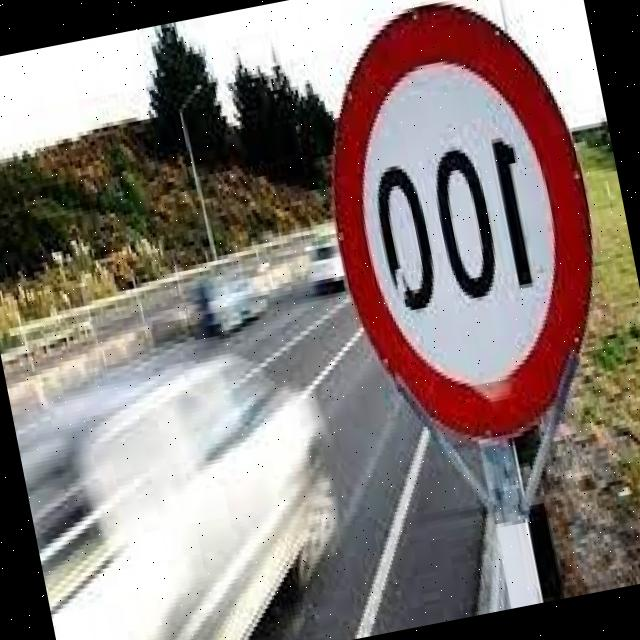speed_limit_100: (293, 0, 632, 469)
